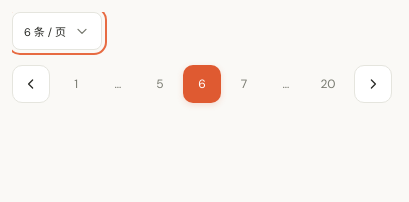
Scenario: page size selection filters invalid options and resets uncontrolled pagination to one
Press Arrowdown
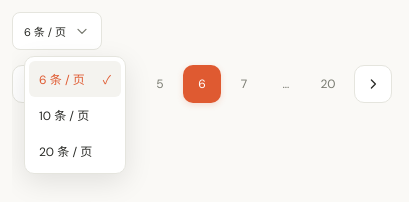
Click the option "20 条 / 页": [66, 152] box [39,144,92,160]
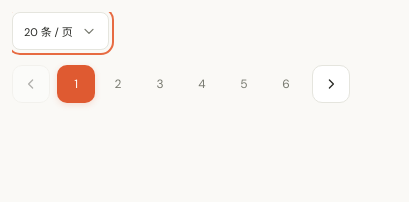
Check: the dropdown named "每页条数" reads "20 条 / 页", box [12,12,109,50]
